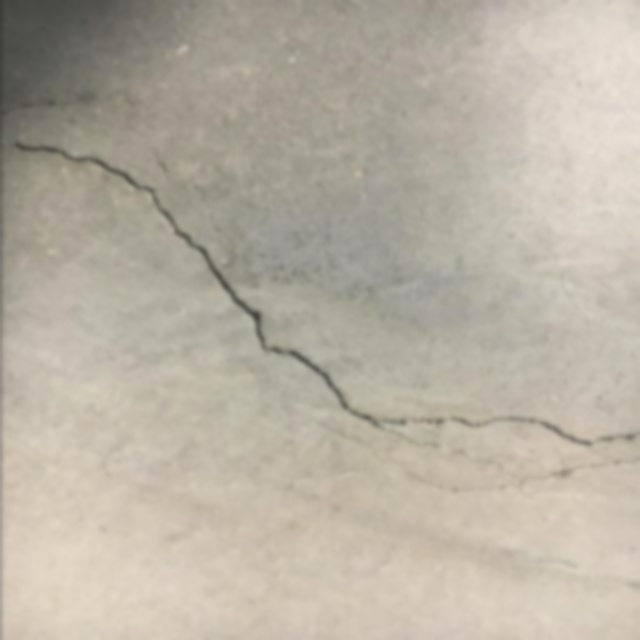SurfaceCrack: (0, 101, 638, 503)
